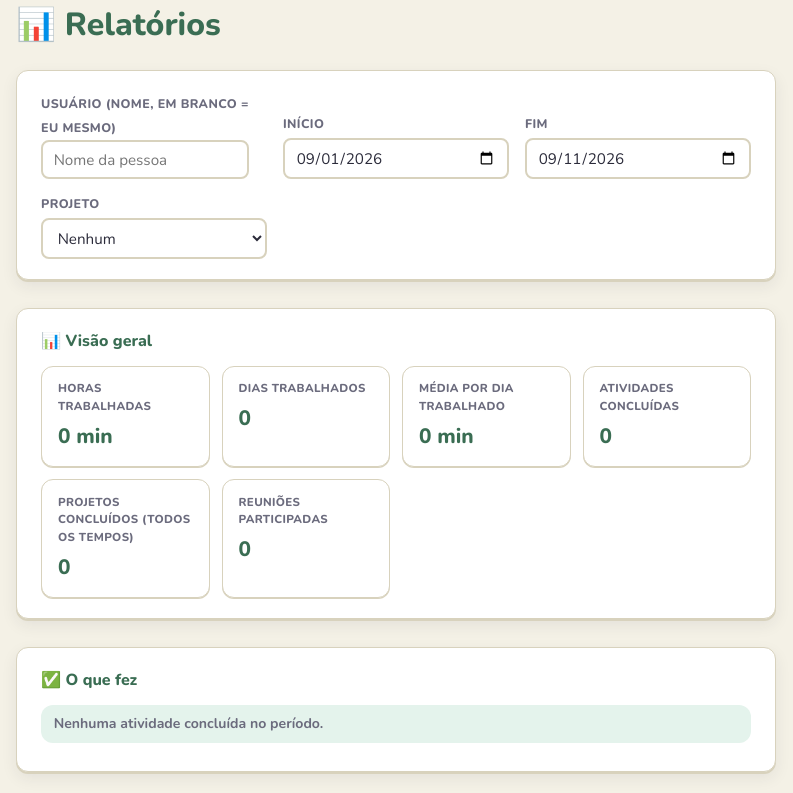
RelatoriosPage › mostra os dias inconsistentes do período informado
Type "2026-01-01" into the date field labelled "Início" at (396, 159), box [283, 138, 509, 179]
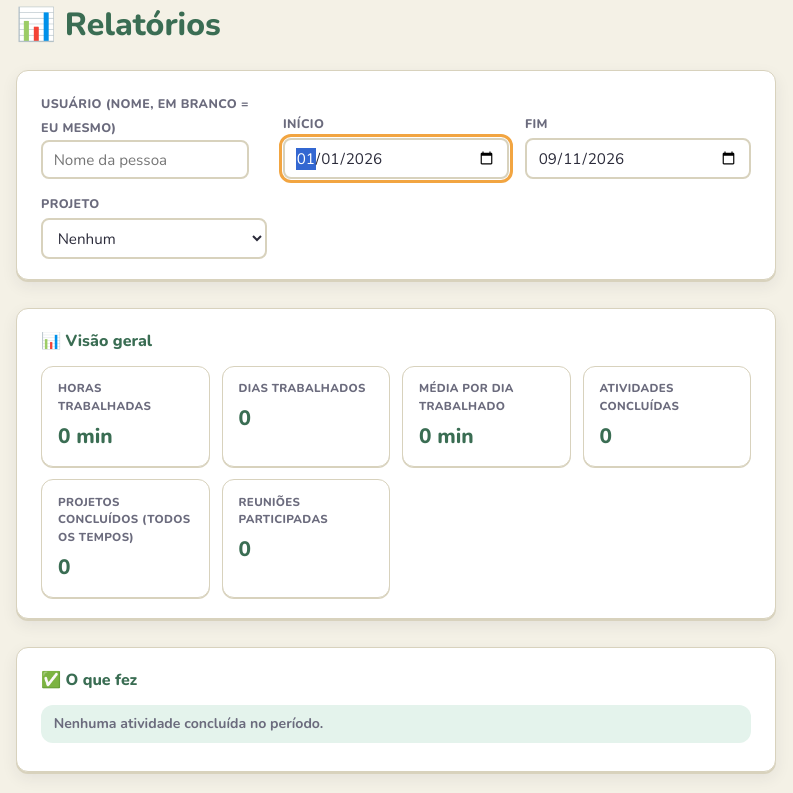
Type "2026-02-01" into the date field labelled "Fim" at (638, 159), box [525, 138, 751, 179]
(page scrolled)
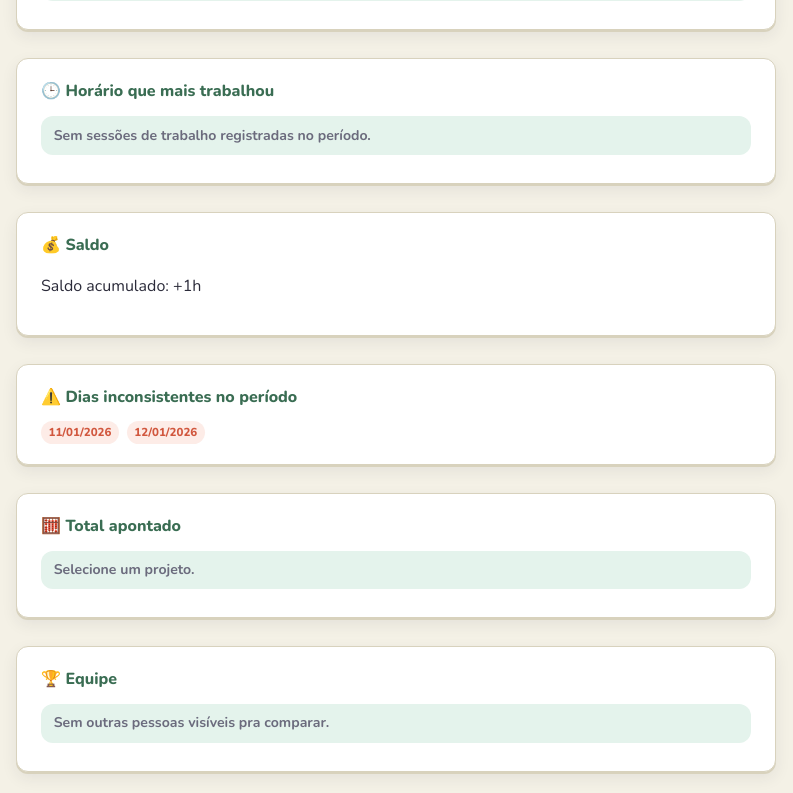
Result: the list item "11/01/2026" is shown at [41, 421, 119, 444]
Result: the list item "12/01/2026" is shown at [127, 421, 205, 444]
